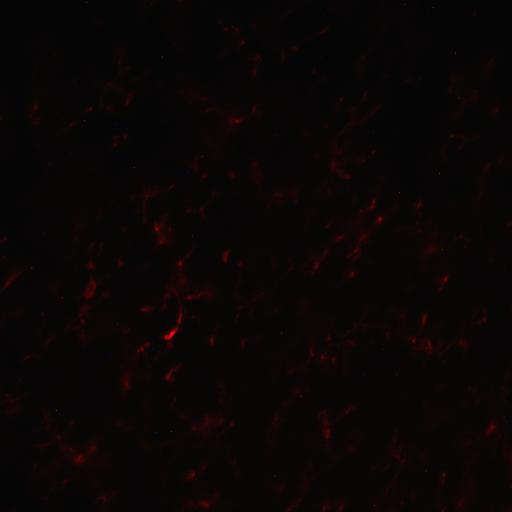microglia: (161, 366, 186, 386), (159, 325, 182, 346), (119, 371, 137, 396), (82, 275, 99, 301), (434, 273, 454, 295), (138, 186, 158, 206), (388, 445, 407, 466), (95, 486, 113, 508), (473, 304, 490, 327), (153, 233, 176, 250), (0, 273, 23, 289), (482, 422, 499, 443), (420, 240, 440, 257), (455, 338, 474, 355), (419, 308, 431, 332), (316, 411, 335, 426), (70, 452, 90, 466), (229, 112, 243, 132), (172, 308, 187, 326), (269, 413, 284, 431), (423, 336, 434, 360), (194, 498, 216, 510), (198, 202, 211, 222), (86, 443, 101, 459), (329, 142, 345, 157), (249, 98, 262, 116), (408, 332, 420, 351), (220, 244, 230, 266), (238, 335, 250, 353), (126, 90, 138, 108), (160, 290, 170, 311), (380, 326, 393, 342), (225, 170, 242, 182), (305, 342, 316, 360), (60, 474, 74, 488), (396, 310, 410, 324), (183, 468, 196, 483), (310, 259, 322, 275), (139, 302, 153, 315), (321, 246, 334, 260), (136, 343, 154, 353), (414, 198, 424, 216), (318, 497, 330, 512), (208, 332, 219, 348), (84, 260, 100, 271), (363, 199, 377, 211), (321, 429, 335, 441), (152, 220, 164, 234), (492, 103, 504, 117), (360, 232, 372, 246), (467, 92, 479, 106), (438, 468, 448, 484), (318, 354, 330, 367), (200, 462, 211, 476), (326, 160, 338, 172), (79, 310, 88, 326), (188, 291, 206, 299), (374, 216, 388, 226), (332, 233, 346, 243), (236, 258, 247, 270), (401, 77, 414, 87), (228, 417, 237, 431), (324, 334, 334, 346), (320, 25, 330, 37), (456, 498, 466, 510), (104, 78, 112, 92), (353, 242, 361, 256), (172, 396, 179, 412), (115, 256, 126, 266), (285, 502, 296, 512), (347, 444, 358, 454), (202, 414, 212, 425), (112, 136, 121, 148), (284, 369, 296, 378), (345, 272, 358, 280), (335, 504, 348, 512), (216, 415, 224, 428), (446, 132, 455, 143), (505, 218, 512, 232), (348, 250, 355, 264), (343, 405, 357, 412), (482, 162, 490, 174), (52, 433, 65, 440), (190, 424, 199, 434), (171, 287, 180, 297), (342, 174, 353, 182), (42, 415, 50, 426), (331, 357, 338, 369), (201, 174, 209, 184), (275, 190, 283, 200), (347, 338, 357, 346), (325, 218, 333, 228), (0, 235, 8, 245), (360, 155, 366, 168), (293, 43, 300, 54), (338, 94, 345, 105), (46, 336, 53, 347), (32, 103, 41, 111), (178, 258, 185, 268), (458, 230, 464, 241), (86, 105, 94, 113), (250, 69, 258, 77), (179, 276, 187, 284), (357, 209, 366, 216), (372, 148, 378, 158), (294, 496, 304, 502), (440, 504, 446, 512), (234, 26, 240, 34), (255, 52, 261, 60), (252, 160, 258, 168), (116, 419, 122, 427), (204, 106, 210, 113), (201, 153, 206, 161), (123, 132, 128, 140), (237, 310, 242, 318), (240, 38, 244, 46), (224, 25, 227, 33)
